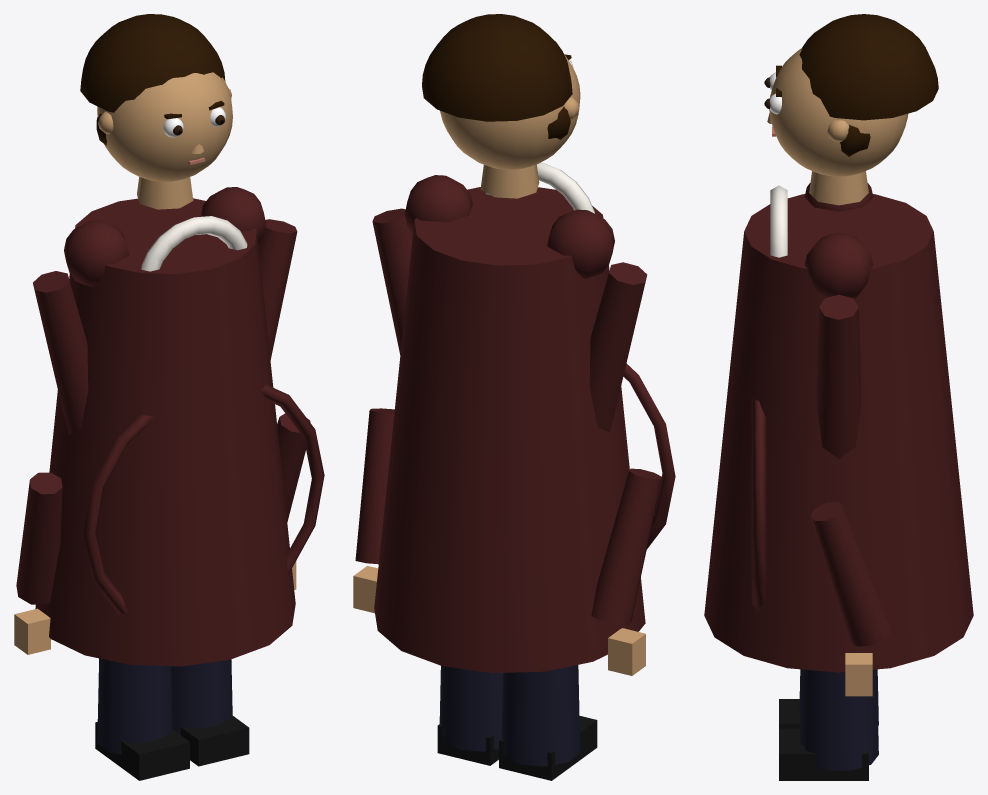
File: accionada.glb
3 renders of one model, left to right at view 1: azimuth 30°, elevation 25°; view 2: azimuth 150°, elevation 25°; view 3: azimuth 270°, elevation 25°, orthographic. The views are drawn at different scales.
Visible parts, largest first — view 1: ACCIONADA; view 2: ACCIONADA; view 3: ACCIONADA.
Boxes of the visible parts, left/top/right/bottom form: ACCIONADA: left=14, top=14, right=324, bottom=780; ACCIONADA: left=353, top=14, right=675, bottom=780; ACCIONADA: left=704, top=14, right=973, bottom=780.
Size of the model in its own units: 0.6596 by 1.62 by 0.54.
